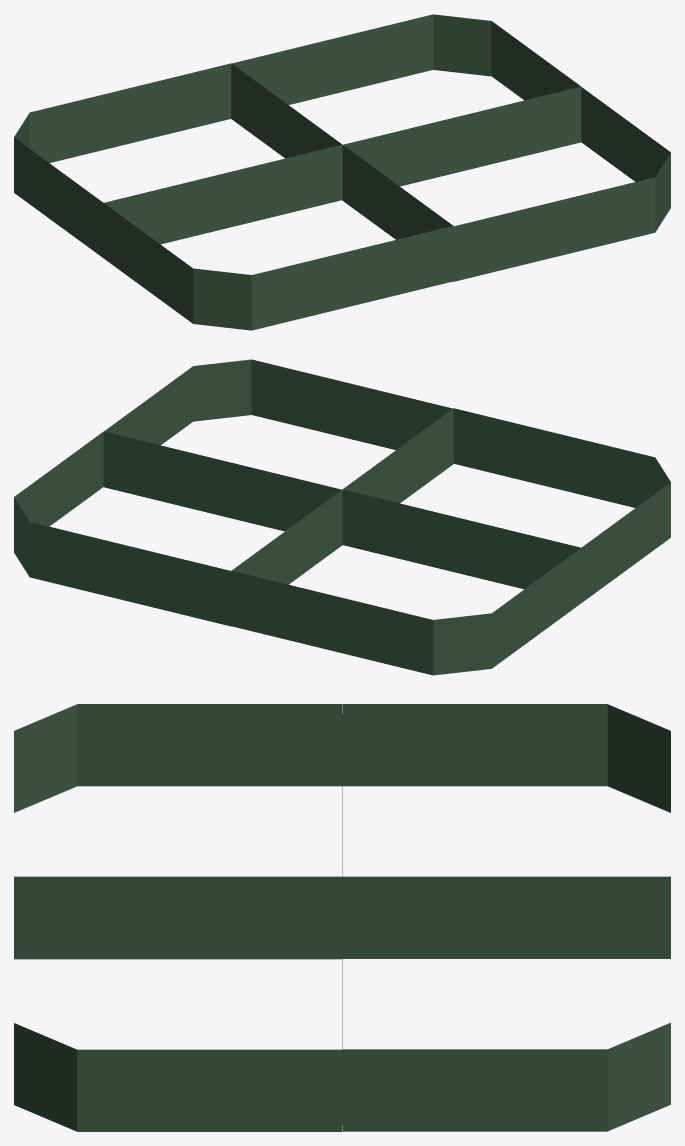
The model's file is LimitNvlJefe.fbx.
The picture shows the model from 3 angles, top to bottom: view 1: azimuth 30°, elevation 25°; view 2: azimuth 150°, elevation 25°; view 3: azimuth 270°, elevation 25°; orthographic projection. The views are drawn at different scales.
Parts seen in each view (by area): view 1: Base p1.001, Base p2.001, Base p3.001, Base p4.002; view 2: Base p3.001, Base p4.002, Base p1.001, Base p2.001; view 3: Base p2.001, Base p4.002, Base p3.001, Base p1.001.
Boxes of the visible parts, <box> form: Base p1.001: <box>14,63,342,257</box>; Base p2.001: <box>231,14,581,186</box>; Base p3.001: <box>103,144,453,330</box>; Base p4.002: <box>342,87,670,281</box>; Base p3.001: <box>342,408,670,602</box>; Base p4.002: <box>104,359,453,545</box>; Base p1.001: <box>231,489,581,675</box>; Base p2.001: <box>14,431,342,626</box>; Base p2.001: <box>342,877,670,1131</box>; Base p4.002: <box>14,877,342,1131</box>; Base p3.001: <box>14,704,342,958</box>; Base p1.001: <box>342,704,670,958</box>.
Bounding box in the file's own units: 1800 × 202 × 1449.
